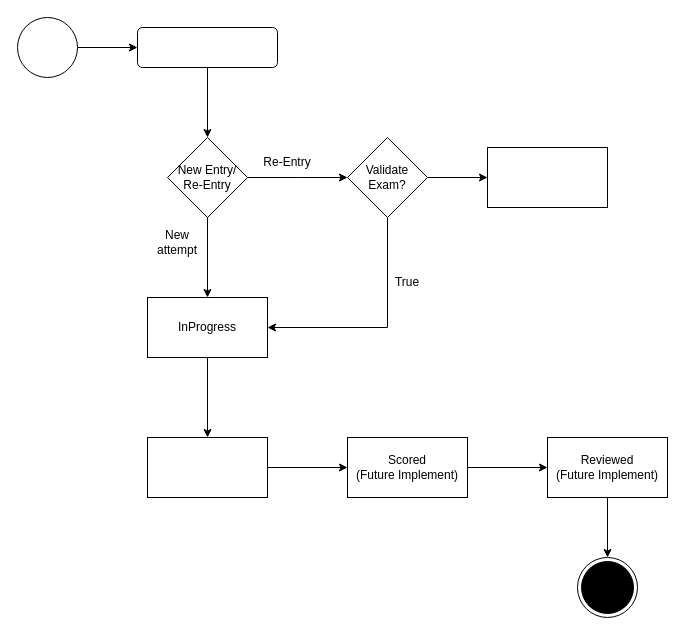
This 685x635 diagram has some shape labels left out. Here are the shapes that lost their labels. From the top down, the centre of each, then its label:
At (x=207, y=47): "Exam Attempt".
At (x=547, y=177): "Attempt Rejected".
At (x=207, y=467): "Completed (Future Implement)".
